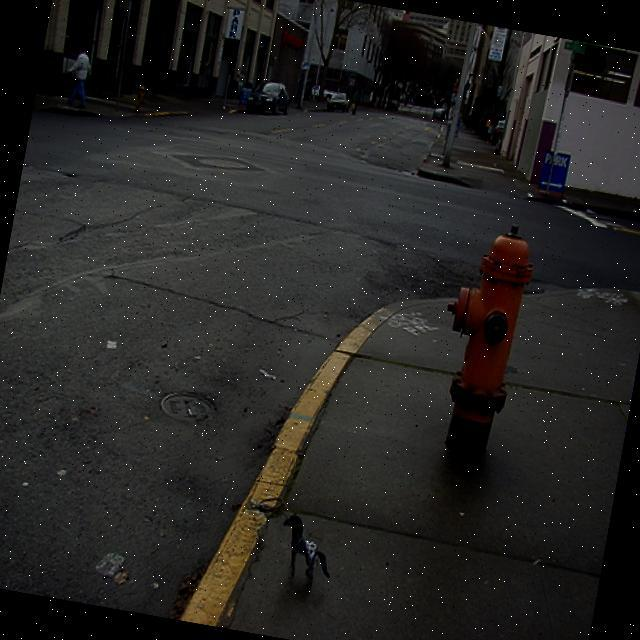fire_hydrant: (419, 210, 534, 466), (130, 78, 148, 112)
